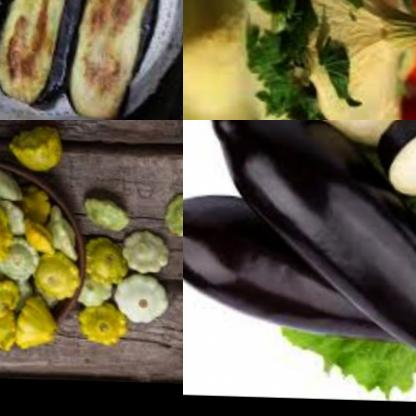eggplant: (194, 120, 416, 396), (183, 224, 416, 354), (0, 0, 183, 113), (280, 120, 416, 230)
squash-patisson: (183, 0, 416, 120), (66, 181, 173, 351), (0, 152, 79, 350), (6, 122, 71, 176), (157, 182, 183, 239)
tomato: (362, 0, 416, 120)
